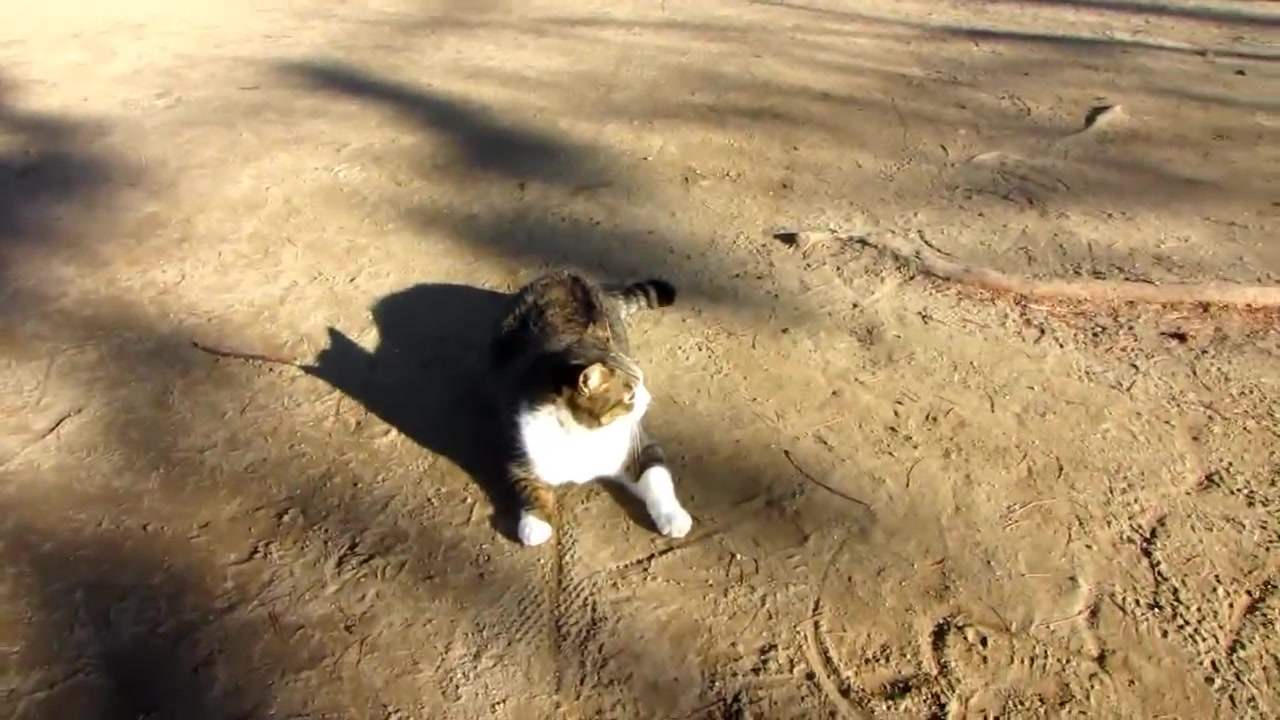cat: (480, 271, 696, 546)
